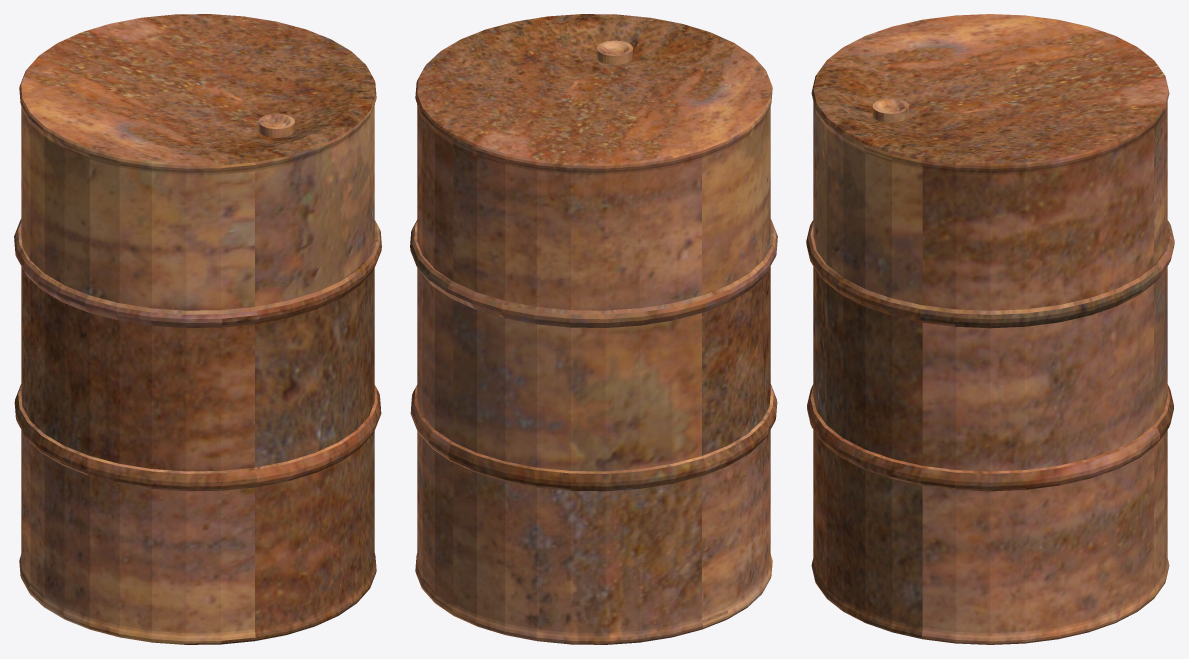
Rendered from barril.fbx.
3 views of the same model, side by side, from view 1: azimuth 30°, elevation 25°; view 2: azimuth 150°, elevation 25°; view 3: azimuth 270°, elevation 25° (orthographic).
Visible parts, largest first — view 1: Cylinder; view 2: Cylinder; view 3: Cylinder.
Part boxes in pixels (x1,y1,x2,y2): Cylinder: [14, 14, 381, 644]; Cylinder: [410, 14, 777, 644]; Cylinder: [806, 14, 1174, 644].
Bounding box in the file's own units: 208 × 300 × 208.
1 material, 1 textured.
